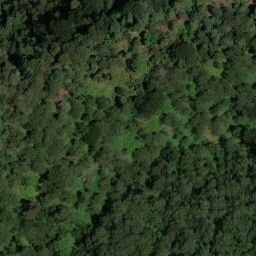forest: (1, 1, 255, 255)
